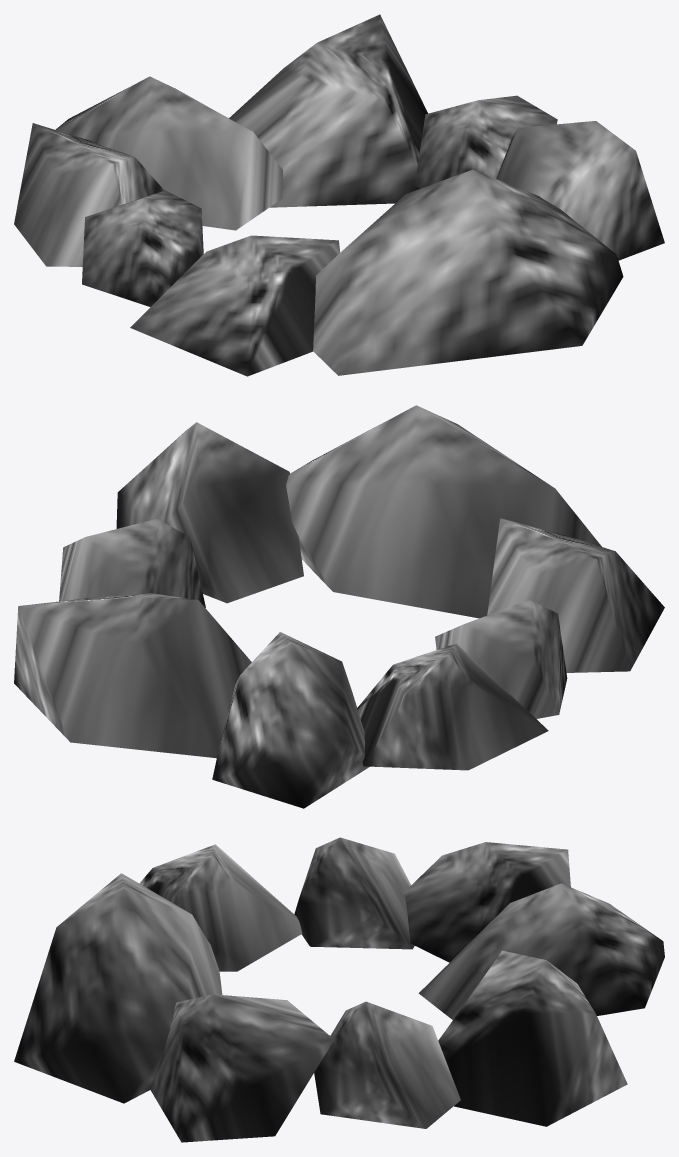
Rendered from Stone05.obj.
3 views of the same model, one above another, from view 1: azimuth 30°, elevation 25°; view 2: azimuth 150°, elevation 25°; view 3: azimuth 270°, elevation 25° (orthographic). The views are drawn at different scales.
Parts seen in each view (by area): view 1: Mesh_0; view 2: Mesh_0; view 3: Mesh_0.
Boxes of the visible parts, <box> form: Mesh_0: <box>14,14,664,376</box>; Mesh_0: <box>14,405,664,808</box>; Mesh_0: <box>14,837,664,1142</box>.
Bounding box in the file's own units: 0.9821 × 0.2971 × 1.12.
1 material, 1 textured.
